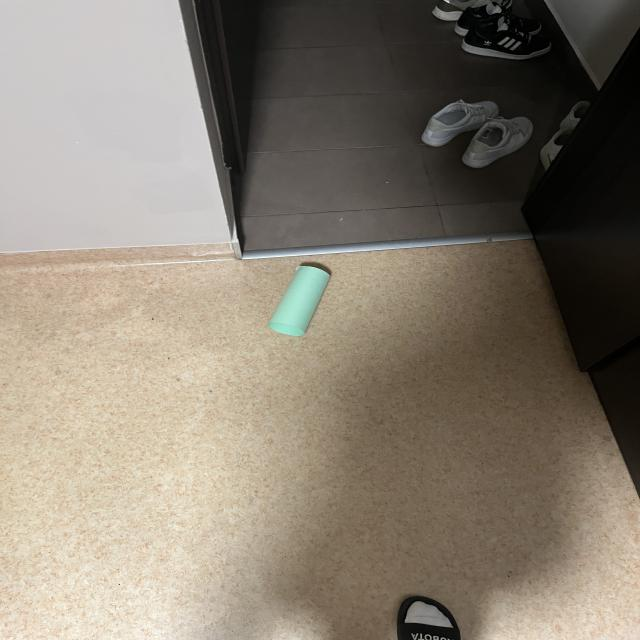meta: (269, 266, 330, 336)
